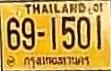0: (76, 16, 90, 48)
1: (51, 16, 55, 50), (96, 15, 100, 49)
5: (62, 16, 74, 48)
6: (6, 16, 19, 50)
9: (21, 17, 34, 49)
BKK: (22, 54, 92, 67)
